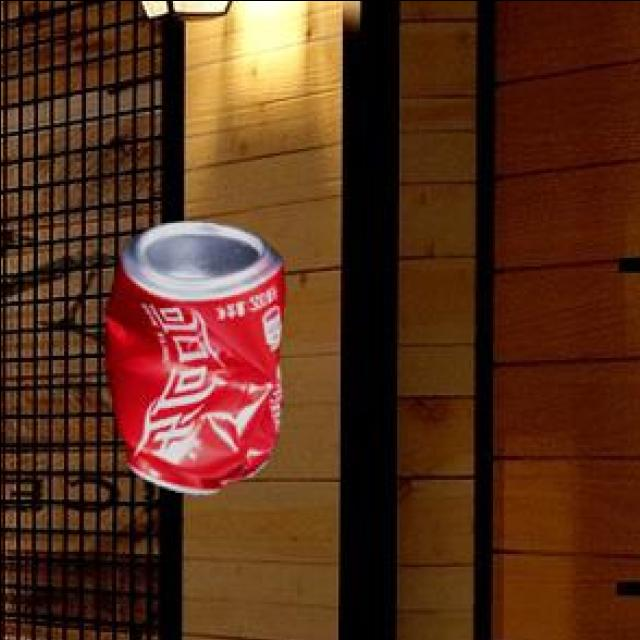logam: (108, 217, 288, 491)
